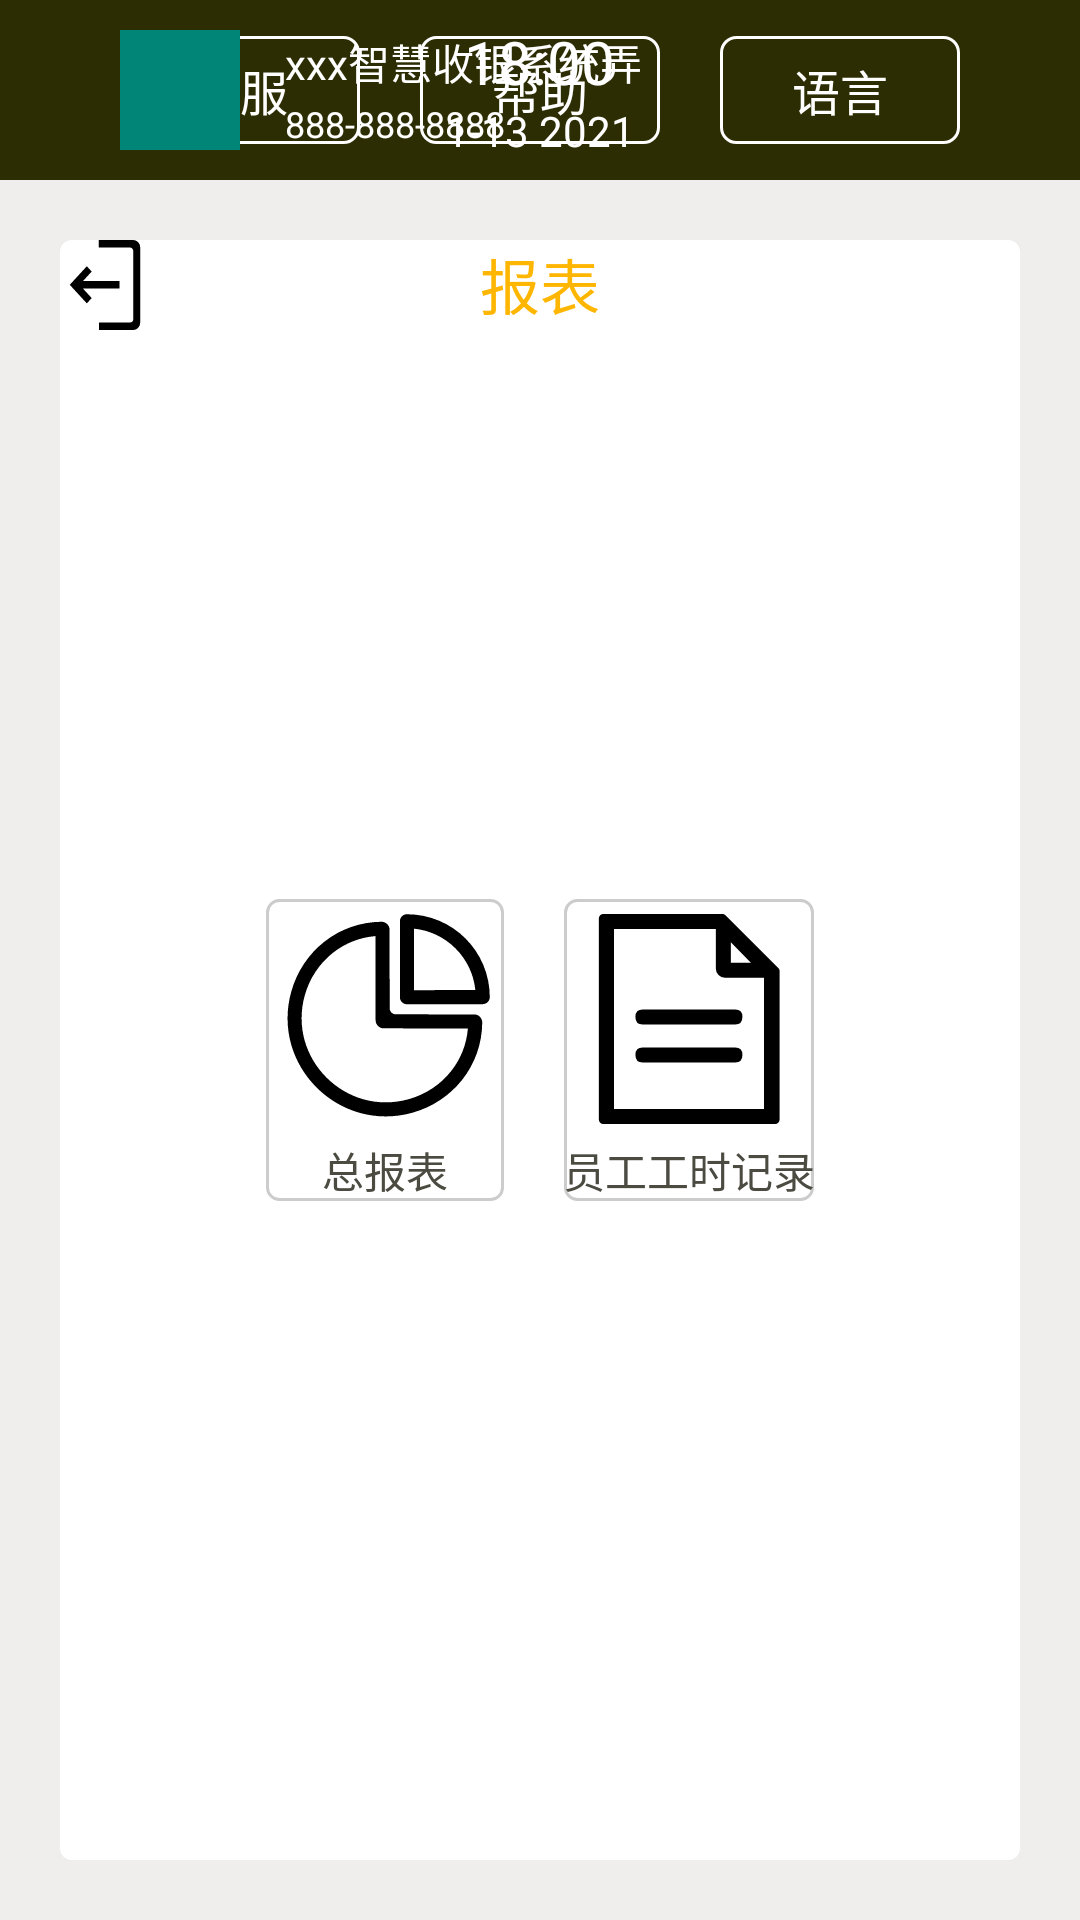

Icons on this 1080px x 1920px Android screen, each with the point to tap as [x,y]:
report back: [105,285]
